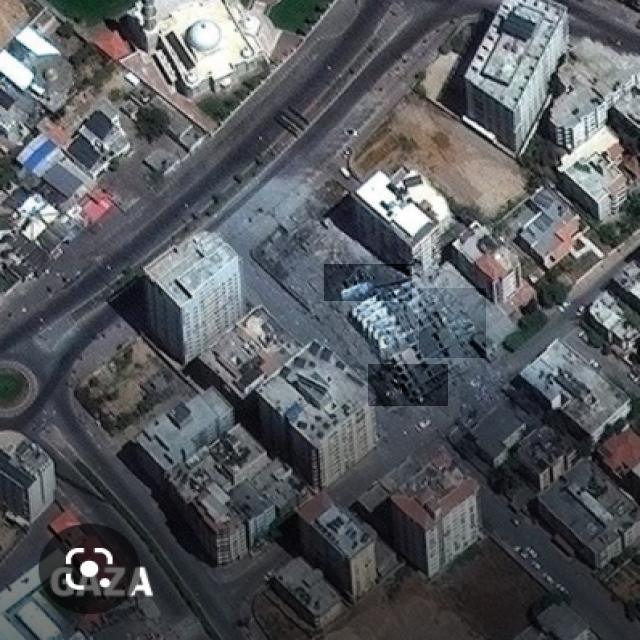Rubble: (419, 288, 486, 358), (368, 364, 448, 406), (324, 264, 412, 301)
